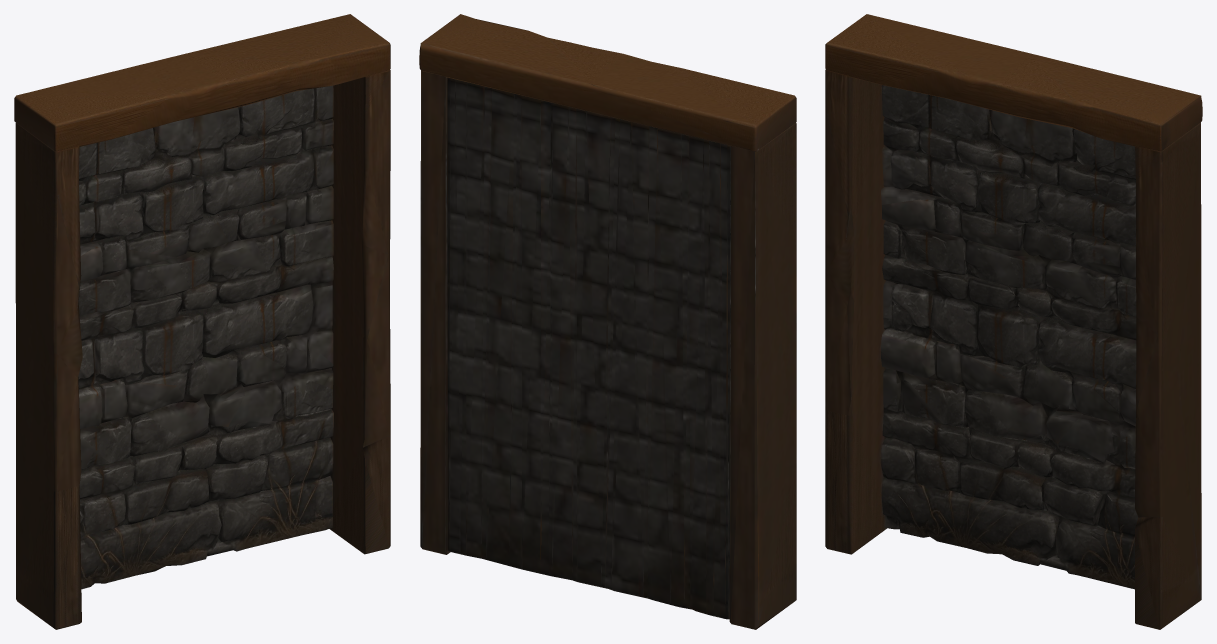
File: blk_dungeon_wall.glb
The picture shows the model from 3 angles, left to right: view 1: azimuth 30°, elevation 25°; view 2: azimuth 150°, elevation 25°; view 3: azimuth 330°, elevation 25°; orthographic projection.
Bounding box in the file's own units: 0.6636 × 0.9531 × 0.1436.
Materials: 1 (1 with a texture image).
